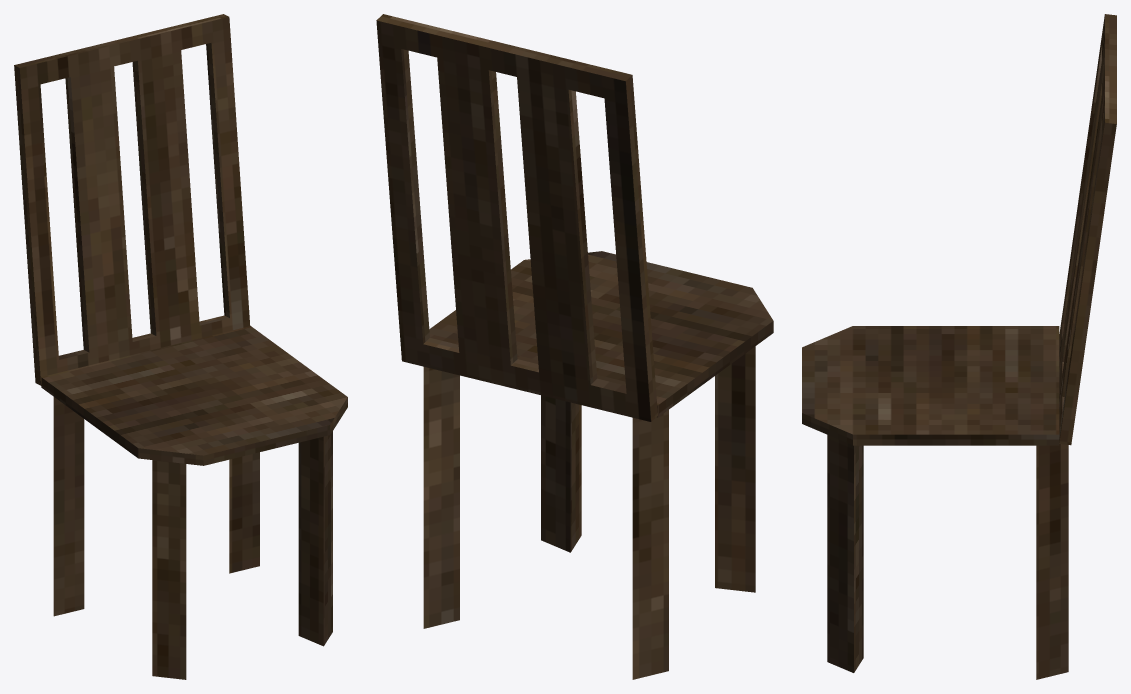
Rendered from Chair (1).fbx.
The picture shows the model from 3 angles, left to right: view 1: azimuth 30°, elevation 25°; view 2: azimuth 150°, elevation 25°; view 3: azimuth 270°, elevation 25°; orthographic projection. The views are drawn at different scales.
Visible parts, largest first — view 1: Chair; view 2: Chair; view 3: Chair.
Part boxes in pixels (x1=…): Chair: x1=14, y1=14, x2=347, y2=679; Chair: x1=376, y1=14, x2=773, y2=679; Chair: x1=802, y1=14, x2=1116, y2=679.
Bounding box in the file's own units: 38.37 × 91.86 × 46.95.
